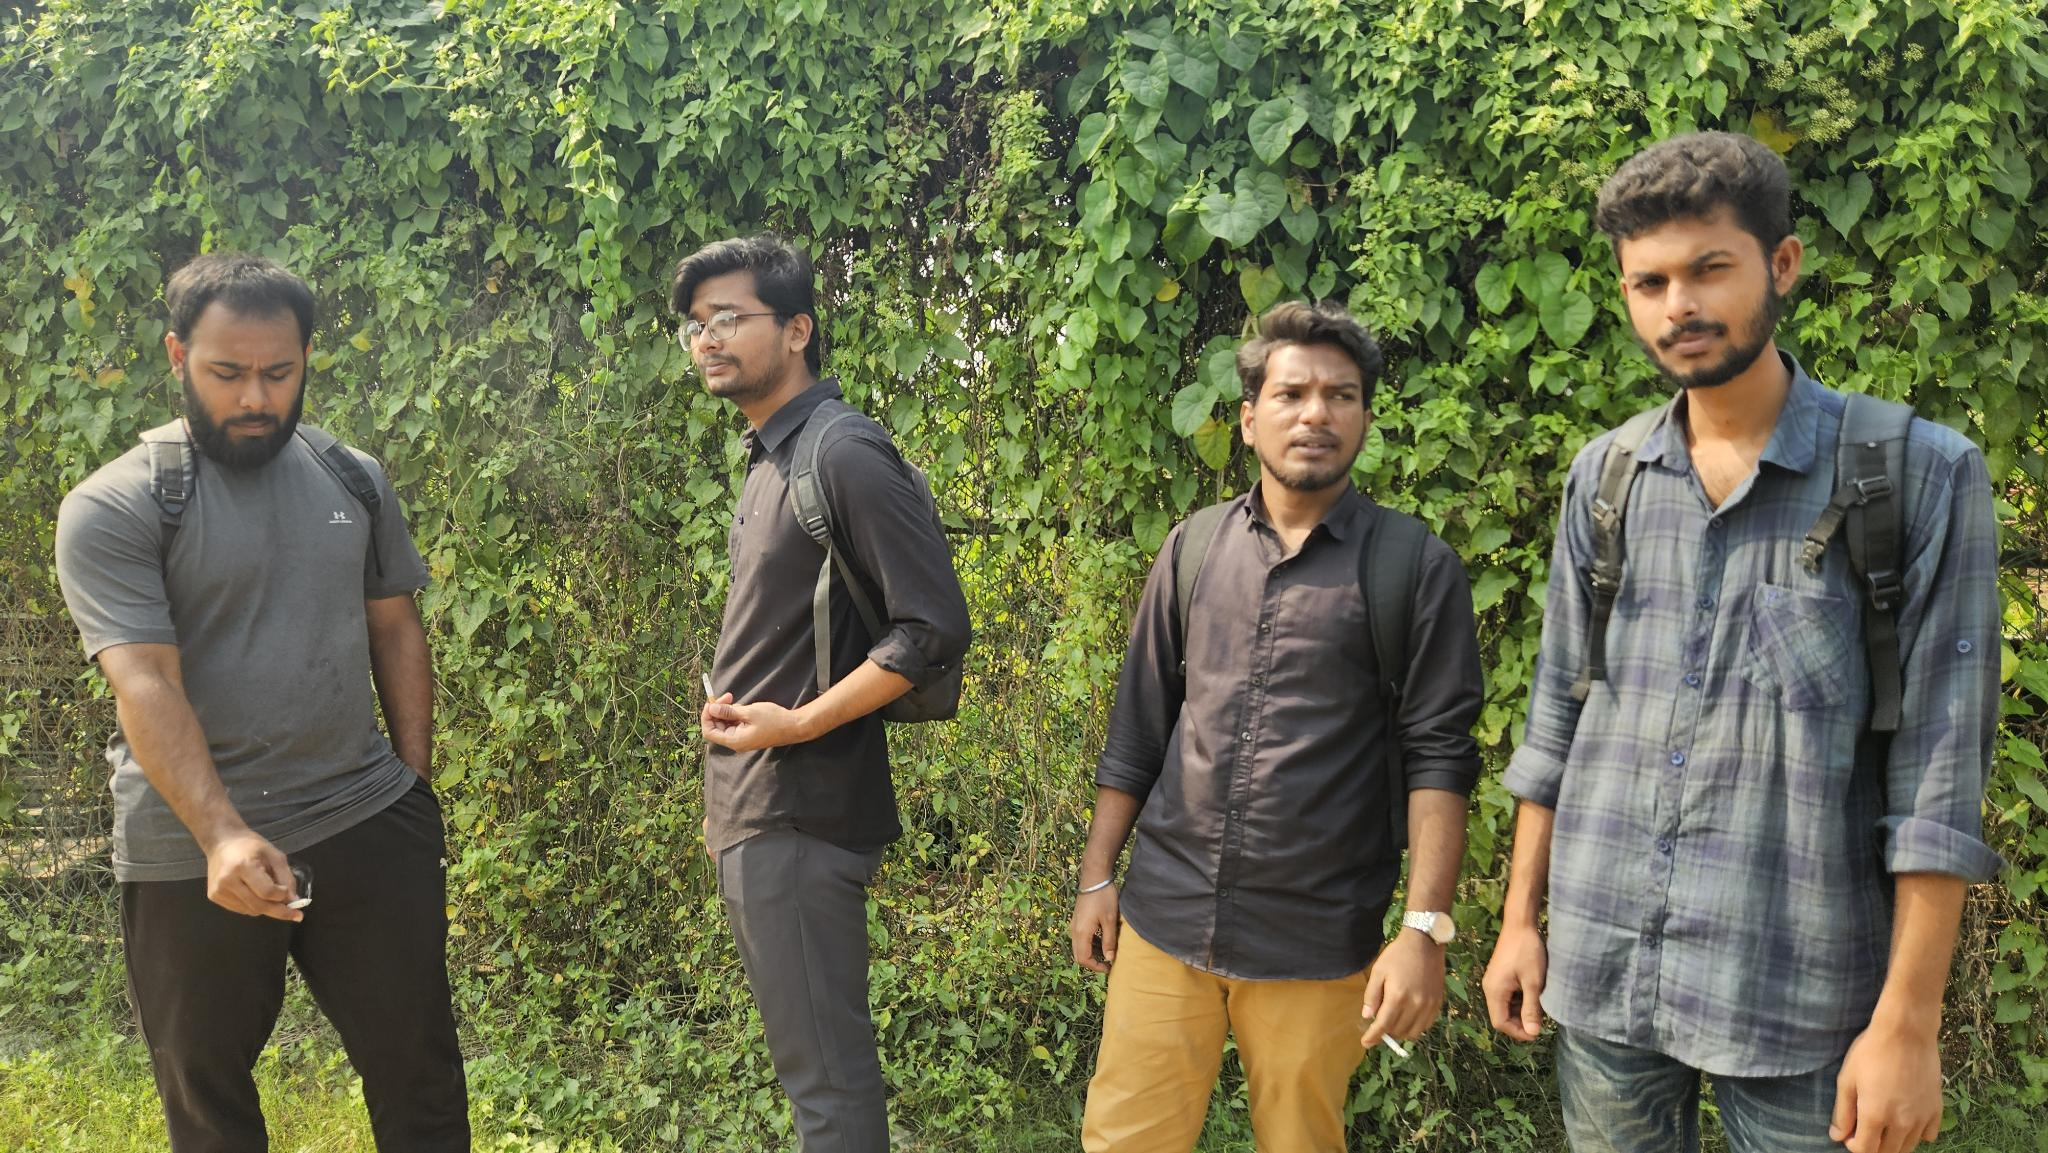cigarette: (1380, 1031, 1412, 1062), (700, 672, 717, 706), (284, 897, 314, 911)
nonSmoker: (1481, 129, 2006, 1153)
smoker: (55, 252, 471, 1153), (1068, 301, 1484, 1153), (672, 239, 972, 1153)
